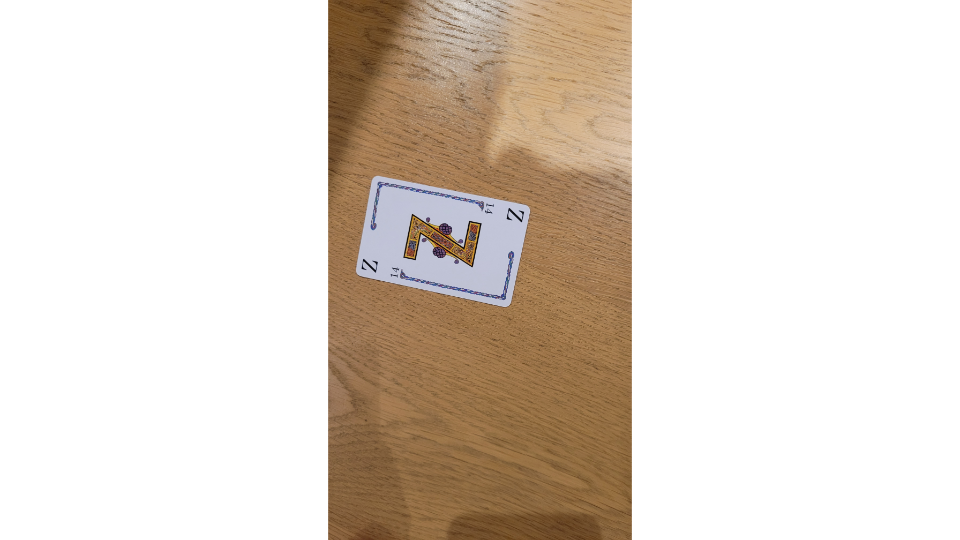Z: (353, 173, 533, 311)
